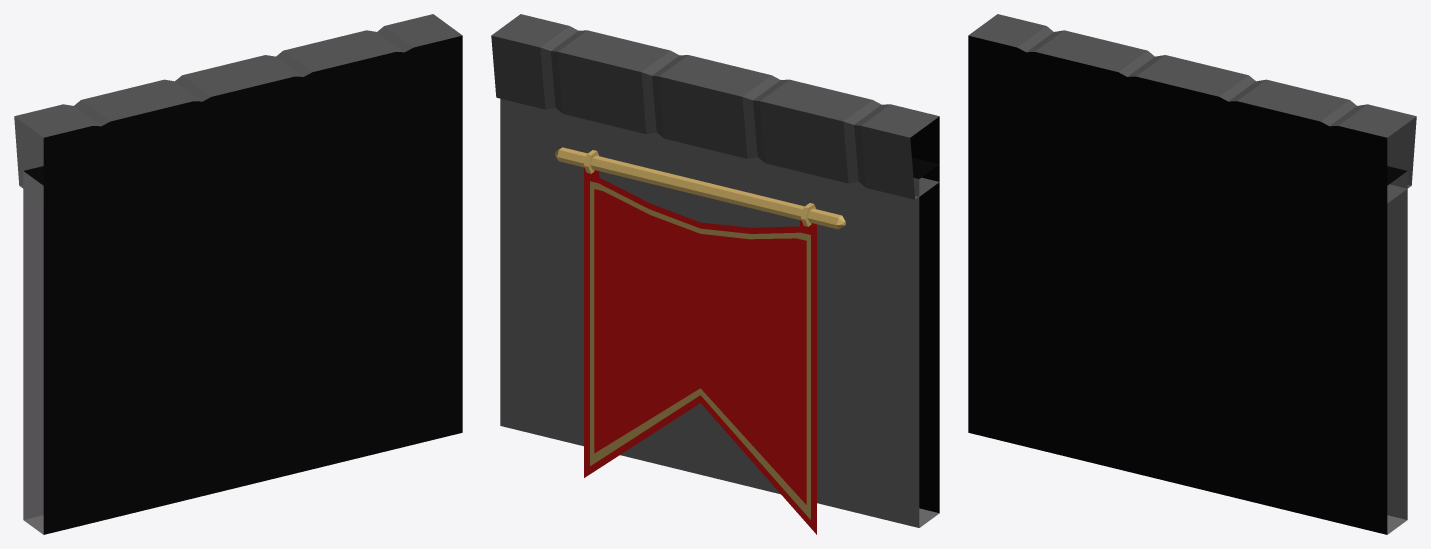
Rendered from Wall_10.fbx.
3 renders of one model, left to right at view 1: azimuth 30°, elevation 25°; view 2: azimuth 150°, elevation 25°; view 3: azimuth 330°, elevation 25°, orthographic.
Parts seen in each view (by area): view 1: Wall_10; view 2: Wall_10; view 3: Wall_10.
Boxes of the visible parts, x1,y1,x2,y2 form: Wall_10: (14, 14, 462, 534); Wall_10: (491, 14, 939, 534); Wall_10: (968, 14, 1416, 534).
Bounding box in the file's own units: 200 × 191 × 29.47.
